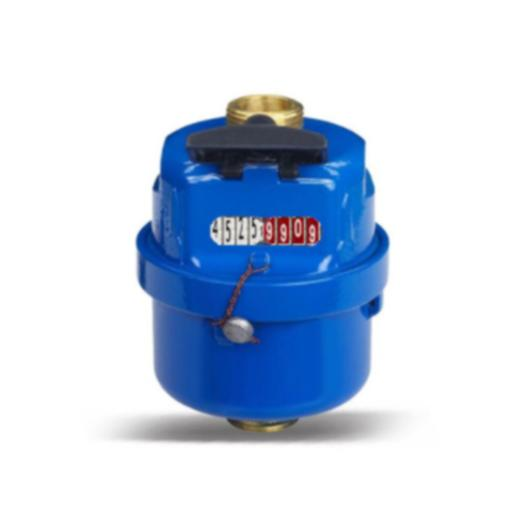0: (292, 217, 304, 245)
2: (236, 217, 248, 246)
4: (210, 218, 223, 245)
5: (250, 217, 263, 246), (223, 217, 235, 244)
9: (307, 217, 323, 245), (264, 217, 276, 245), (279, 217, 290, 245)
border_water_meter_number: (210, 217, 323, 246)
